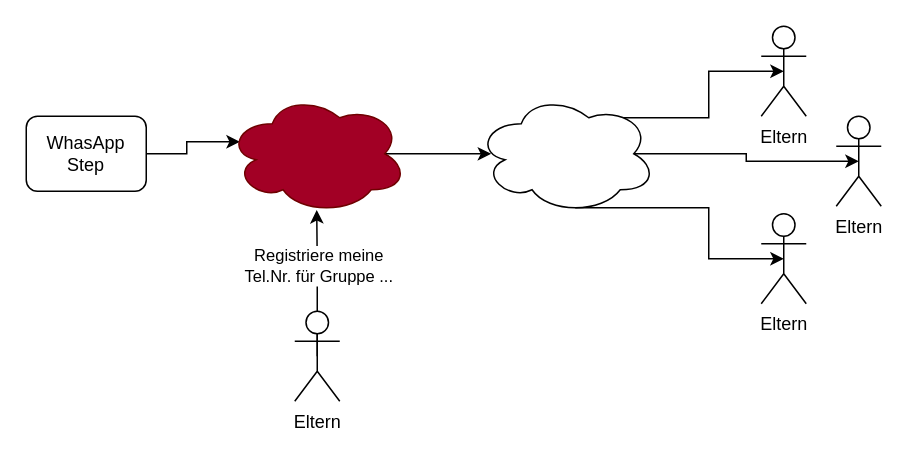
This 908x459 diagram has some shape labels left out. Here are the shapes that lost their labels. From the top down, the centre of each, then its label:
At (x=316, y=153): "Eigener Service".
At (x=565, y=153): "WhatsApp".
